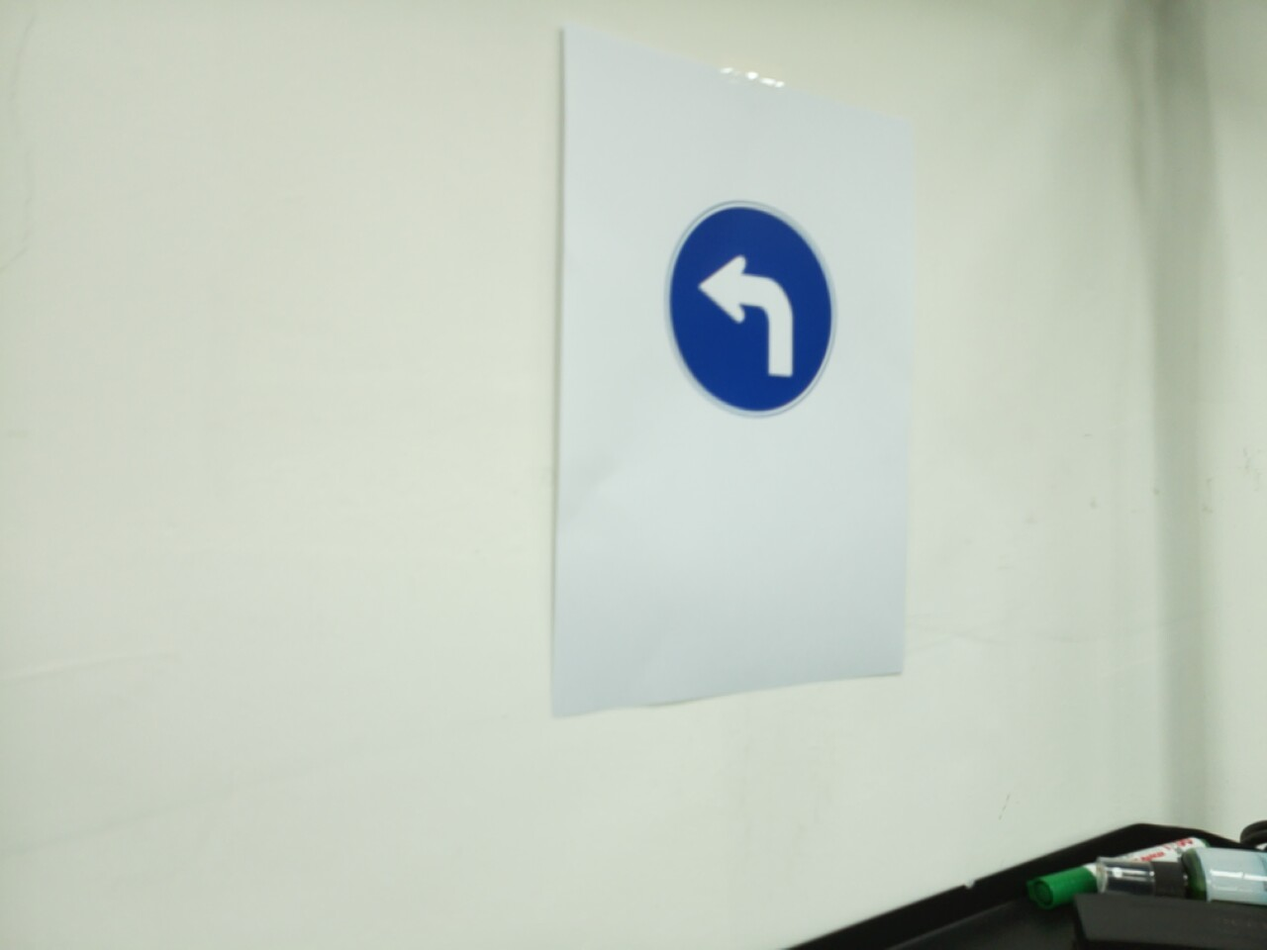left_turn: (662, 199, 838, 420)
